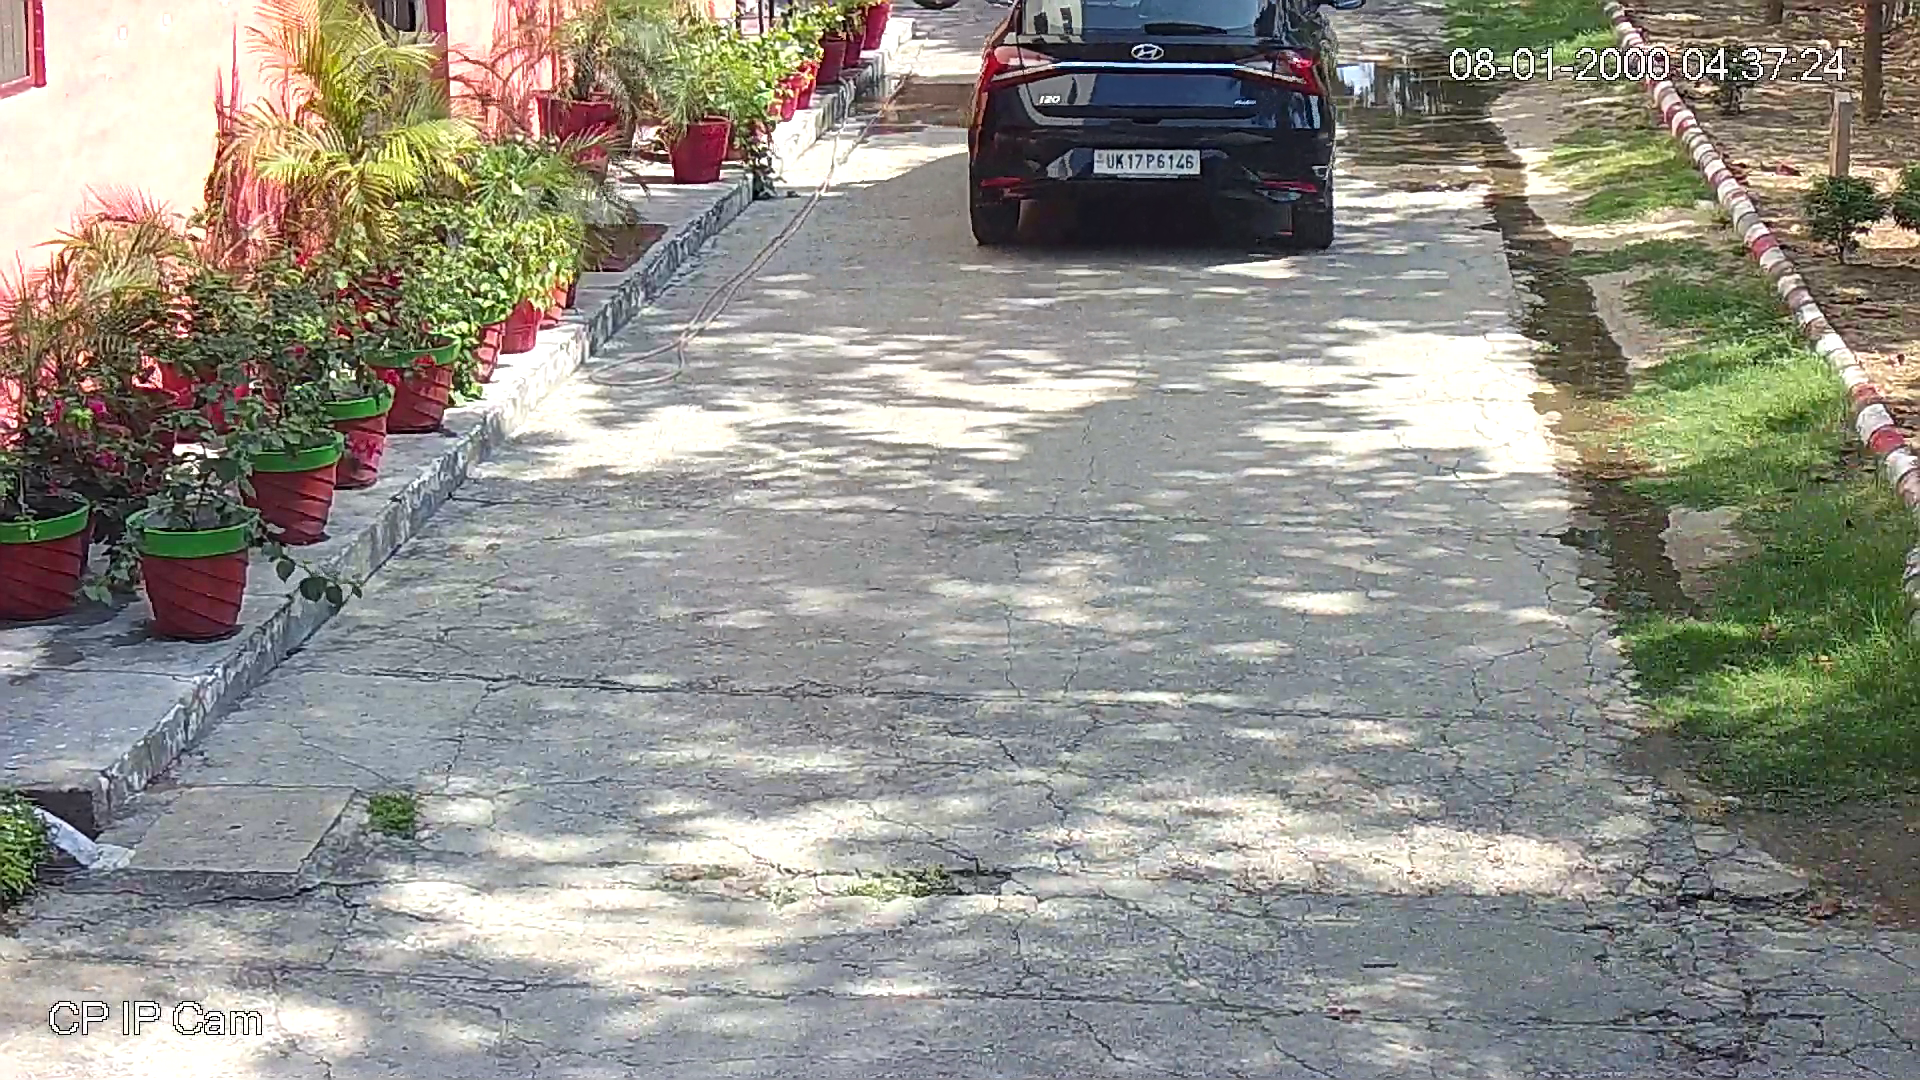plate: (1089, 143, 1208, 179)
